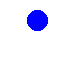circle: (27, 10, 47, 30)
